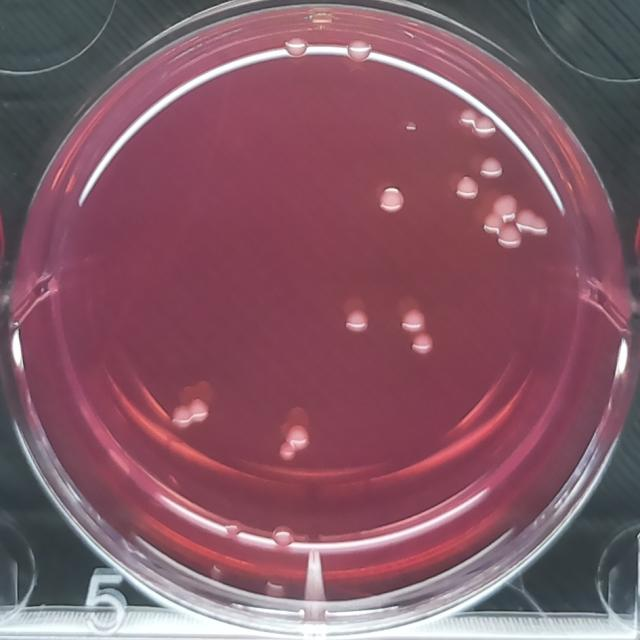Bacillus: (274, 410, 315, 465), (366, 178, 411, 222), (339, 300, 373, 337), (515, 208, 550, 239), (490, 192, 520, 225), (398, 305, 429, 335), (494, 221, 525, 251), (343, 37, 374, 66), (453, 173, 481, 203), (478, 154, 506, 183), (271, 523, 298, 551), (470, 114, 498, 141), (281, 34, 310, 60), (409, 332, 437, 358), (187, 395, 211, 424), (170, 404, 194, 430), (222, 516, 246, 540), (480, 213, 505, 234), (456, 106, 478, 128), (402, 118, 421, 137), (448, 165, 448, 166)
